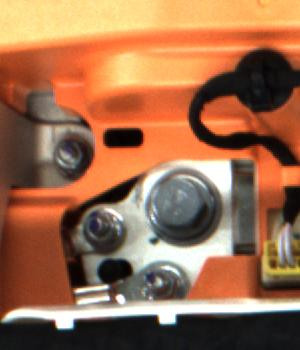nut_b: (145, 167, 224, 246)
screw_s: (47, 136, 98, 182), (83, 207, 135, 246), (139, 266, 189, 303)
